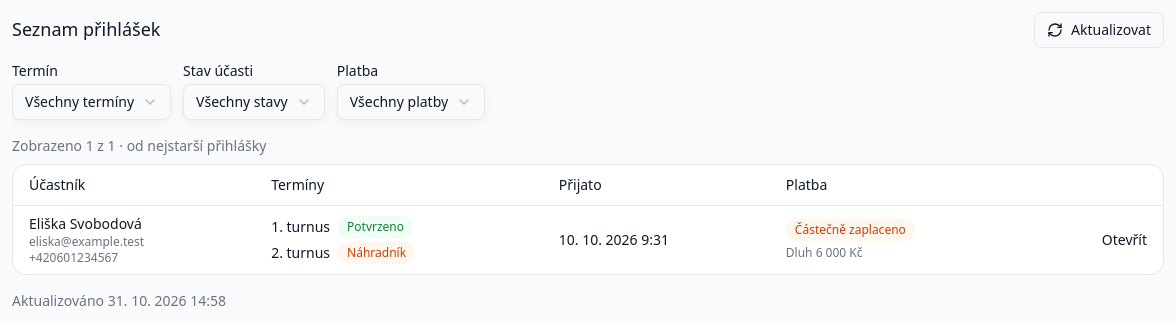
Test: RegistrationsSection › shows progress while refreshing
The image size is (1176, 323).
Expected: the link "Eliška Svobodová" is shown, x1=29 y1=214 x2=142 y2=232
Click the button "Aktualizovat".
click(1099, 30)  # box x1=1034 y1=12 x2=1164 y2=48
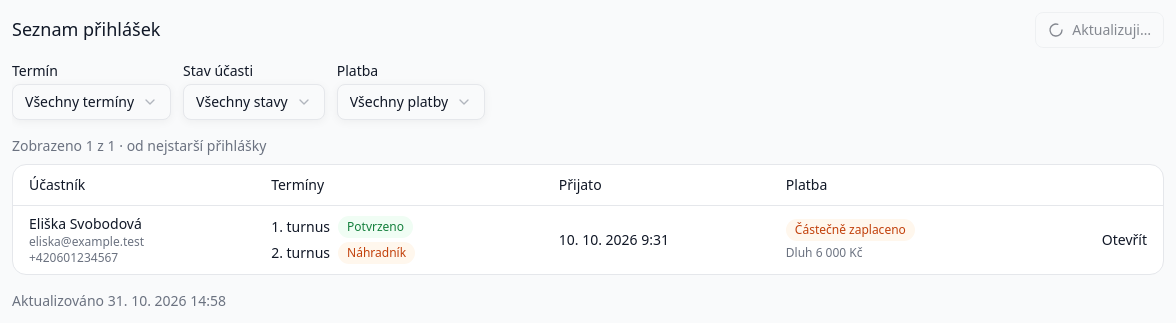
Result: the button "Aktualizuji…" is disabled at x1=1035 y1=12 x2=1164 y2=48
